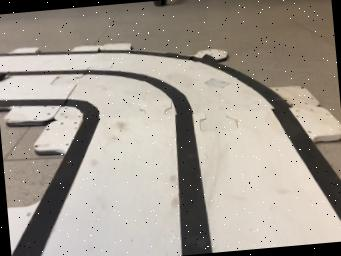street: (0, 48, 341, 256), (0, 48, 341, 256), (0, 48, 341, 256)
